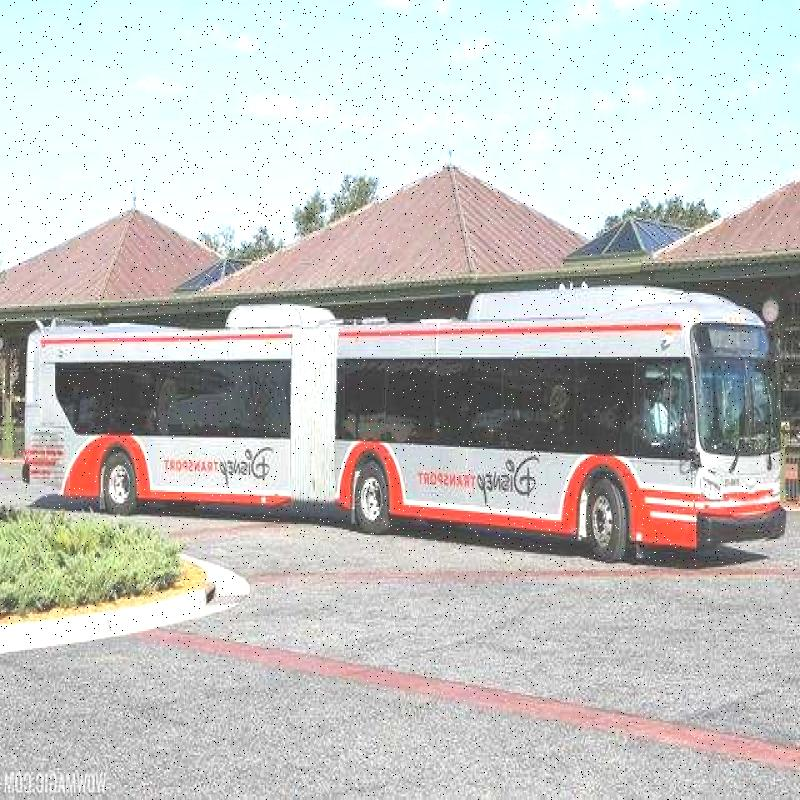bus: (3, 277, 775, 562)
